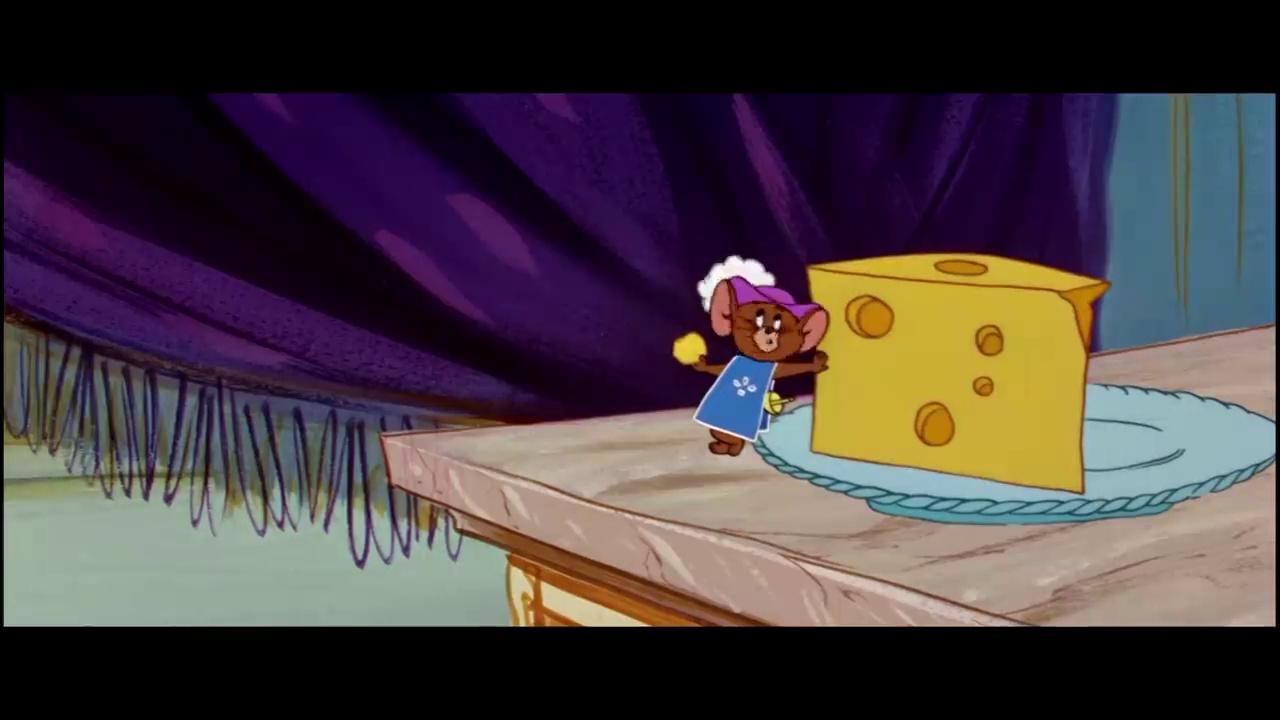Jerry: (688, 277, 830, 457), (690, 277, 830, 458)
